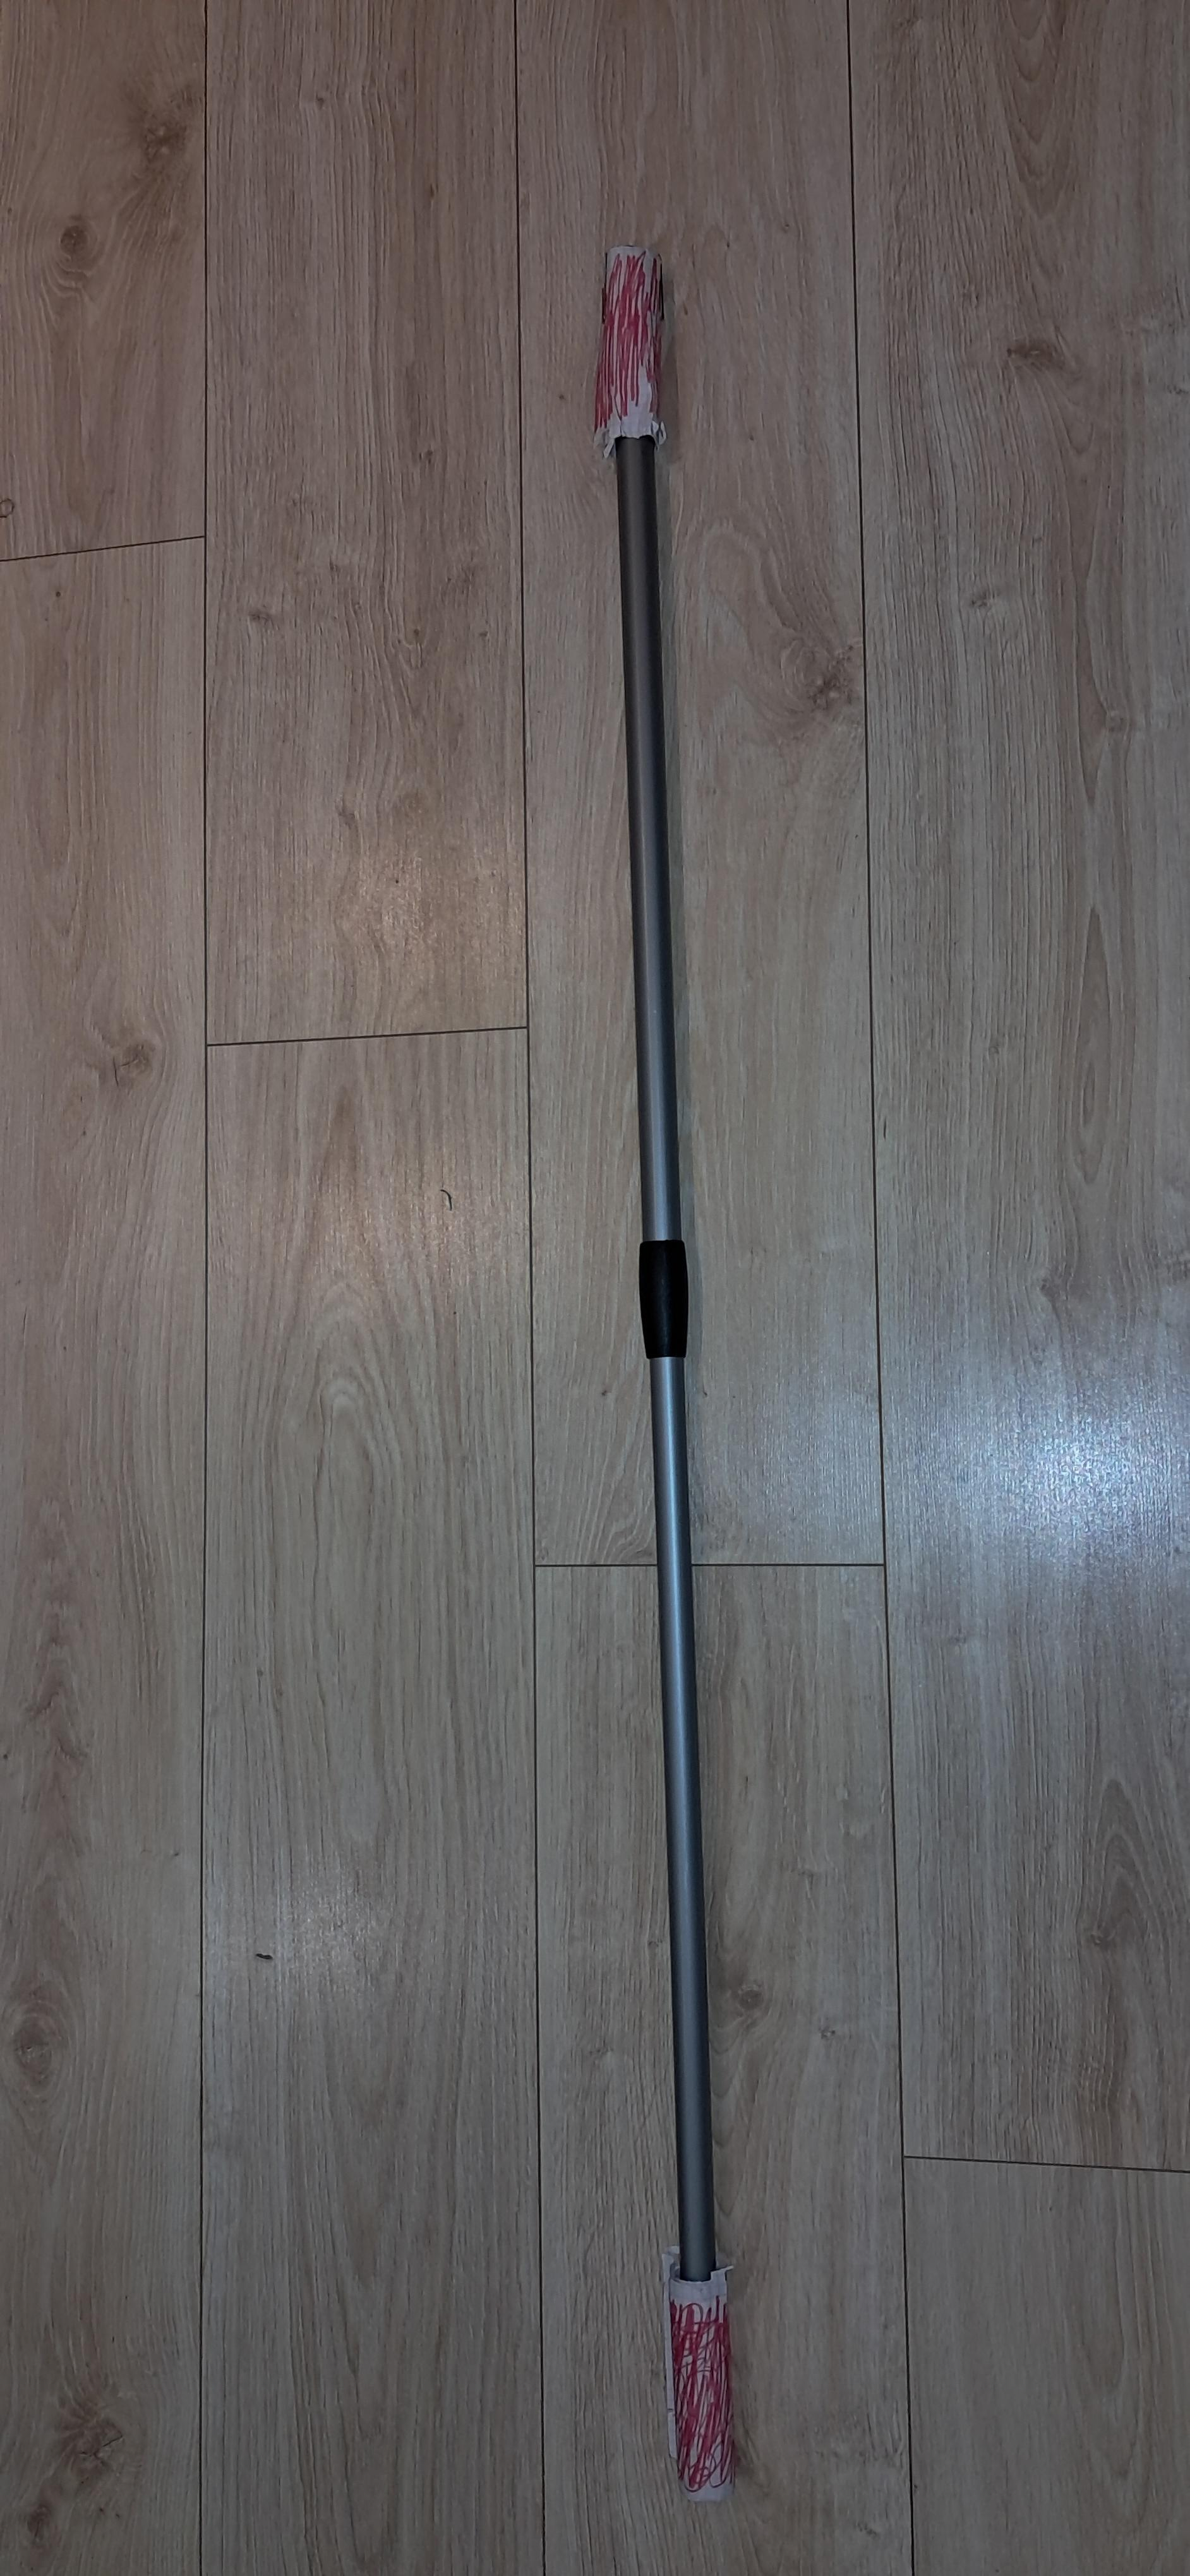broom-handle: (595, 245, 735, 2500)
